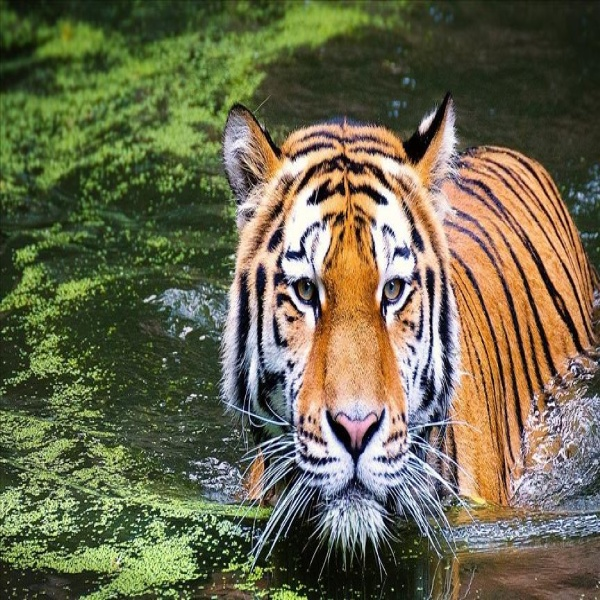Tiger: (217, 91, 596, 573)
